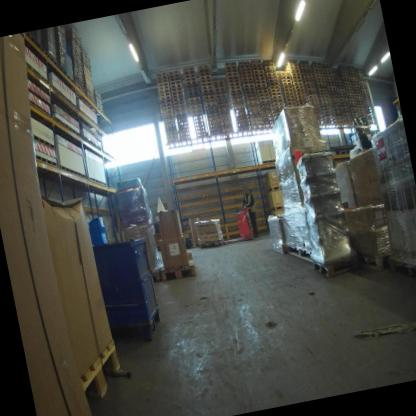pallet: (70, 335, 128, 412), (348, 238, 396, 280), (311, 250, 355, 283), (387, 251, 416, 294), (158, 258, 197, 283), (284, 238, 314, 264), (268, 237, 287, 258), (197, 237, 225, 251), (148, 264, 167, 284), (47, 52, 60, 67), (24, 30, 37, 44), (36, 39, 47, 55), (283, 59, 298, 68), (284, 64, 300, 72), (237, 65, 252, 73), (278, 80, 293, 88), (284, 61, 299, 69), (198, 73, 212, 81), (271, 104, 285, 112), (281, 89, 295, 97), (246, 109, 261, 116), (242, 89, 257, 96), (238, 69, 253, 76), (335, 149, 350, 156), (334, 146, 349, 153), (196, 62, 209, 70), (233, 107, 246, 115), (260, 111, 273, 119), (257, 94, 270, 102), (256, 87, 269, 95), (251, 64, 264, 72), (268, 90, 281, 98), (282, 93, 295, 101), (58, 64, 67, 75), (209, 128, 223, 135), (204, 104, 218, 111), (199, 80, 213, 87), (230, 97, 244, 104), (229, 94, 243, 101), (236, 125, 250, 132), (235, 121, 249, 128), (233, 111, 247, 118), (231, 100, 245, 107), (249, 123, 263, 130), (248, 116, 262, 123), (247, 113, 261, 120), (246, 106, 260, 113), (245, 102, 259, 109), (245, 99, 259, 106), (242, 85, 256, 92), (241, 82, 255, 89), (240, 75, 254, 82), (239, 72, 253, 79), (228, 87, 242, 94), (228, 84, 242, 91), (227, 80, 241, 87), (226, 77, 240, 84), (226, 74, 240, 81), (224, 64, 238, 71), (283, 99, 297, 106), (282, 96, 296, 103), (280, 86, 294, 93), (278, 77, 292, 84), (277, 74, 291, 81), (276, 70, 290, 77), (254, 77, 266, 85), (308, 99, 320, 107), (312, 68, 324, 76), (67, 73, 75, 85), (166, 137, 179, 144), (162, 115, 175, 122), (159, 101, 172, 108), (159, 97, 172, 104), (175, 113, 188, 120), (174, 109, 187, 116), (172, 99, 185, 106), (172, 95, 185, 102), (191, 109, 204, 116), (188, 95, 201, 102), (202, 93, 215, 100), (202, 90, 215, 97), (201, 87, 214, 94), (199, 77, 212, 84), (232, 104, 245, 111), (225, 67, 238, 74), (224, 60, 237, 67), (262, 119, 275, 126), (261, 115, 274, 122), (259, 105, 272, 112), (258, 98, 271, 105), (255, 84, 268, 91), (253, 74, 266, 81), (271, 101, 284, 108), (269, 94, 282, 101), (268, 87, 281, 94), (262, 58, 273, 66), (164, 122, 176, 129), (155, 70, 167, 77), (173, 106, 187, 112), (172, 103, 186, 109), (193, 120, 205, 127), (182, 65, 194, 72), (203, 100, 217, 106), (215, 92, 227, 99), (214, 85, 226, 92), (249, 120, 263, 126), (244, 96, 258, 102), (243, 93, 257, 99), (240, 79, 254, 85), (237, 63, 251, 69), (229, 91, 243, 97), (225, 71, 239, 77), (260, 108, 272, 115), (259, 101, 271, 108), (257, 91, 269, 98), (255, 81, 267, 88), (253, 71, 265, 78), (252, 68, 264, 75), (251, 61, 263, 68), (250, 58, 262, 65), (267, 80, 279, 87), (265, 74, 277, 81), (263, 64, 275, 71), (279, 84, 293, 90), (293, 86, 305, 93), (293, 83, 305, 90), (291, 76, 303, 83), (307, 96, 319, 103), (306, 92, 318, 99), (306, 89, 318, 96), (305, 86, 317, 93), (315, 81, 327, 88), (302, 74, 314, 81), (301, 71, 313, 78), (311, 66, 323, 73), (165, 130, 178, 136), (161, 108, 174, 114), (160, 105, 173, 111), (158, 90, 171, 96), (157, 84, 170, 90), (171, 92, 184, 98), (170, 89, 183, 95), (170, 85, 183, 91), (169, 82, 182, 88), (168, 75, 181, 81), (190, 107, 203, 113), (189, 103, 202, 109), (209, 125, 222, 131), (208, 122, 221, 128), (207, 118, 220, 124), (207, 115, 220, 121), (206, 111, 219, 117), (205, 108, 218, 114), (203, 97, 216, 103), (198, 70, 211, 76), (197, 67, 210, 73), (216, 99, 229, 105), (235, 118, 248, 124), (234, 115, 247, 121), (237, 59, 250, 65), (270, 98, 283, 104), (304, 79, 315, 86), (319, 95, 330, 102), (317, 87, 328, 94), (314, 75, 325, 82), (299, 62, 310, 69), (298, 58, 309, 65), (311, 63, 322, 70), (166, 133, 178, 139), (165, 126, 177, 132), (163, 119, 175, 125), (162, 112, 174, 118), (159, 94, 171, 100), (158, 87, 170, 93), (157, 80, 169, 86), (156, 77, 168, 83), (156, 74, 168, 80), (179, 134, 191, 140), (176, 116, 188, 122), (168, 72, 180, 78), (195, 131, 207, 137), (189, 99, 201, 105), (187, 89, 199, 95), (186, 82, 198, 88), (185, 79, 197, 85), (184, 72, 196, 78), (183, 69, 195, 75), (222, 127, 234, 133), (221, 124, 233, 130), (220, 120, 232, 126), (219, 113, 231, 119), (218, 109, 230, 115), (218, 106, 230, 112), (217, 102, 229, 108), (201, 84, 213, 90), (216, 96, 228, 102), (214, 89, 226, 95), (213, 82, 225, 88), (212, 79, 224, 85), (268, 84, 280, 90), (266, 77, 278, 83), (264, 68, 276, 74), (296, 99, 308, 105), (295, 96, 307, 102), (295, 93, 307, 99), (294, 90, 306, 96), (292, 80, 304, 86), (290, 74, 302, 80), (289, 68, 301, 74), (304, 83, 316, 89), (319, 99, 331, 105), (318, 93, 330, 99), (317, 90, 329, 96), (316, 84, 328, 90), (312, 73, 324, 79), (300, 68, 312, 74), (299, 65, 311, 71), (327, 84, 337, 91), (325, 75, 335, 82), (178, 127, 189, 133), (178, 123, 189, 129), (194, 124, 205, 130), (193, 117, 204, 123), (272, 108, 283, 114), (265, 71, 276, 77), (263, 62, 274, 68), (290, 71, 301, 77), (303, 77, 314, 83), (315, 78, 326, 84), (187, 93, 200, 98), (186, 86, 199, 91), (351, 111, 360, 118), (169, 79, 181, 84), (167, 69, 179, 74), (184, 76, 196, 81), (220, 117, 232, 122), (329, 94, 339, 100), (344, 82, 352, 89), (179, 131, 190, 136), (177, 120, 188, 125), (195, 128, 206, 133), (192, 114, 203, 119), (324, 73, 333, 79), (349, 105, 358, 111), (349, 103, 358, 109), (348, 100, 357, 106), (347, 94, 356, 100), (346, 91, 355, 97), (351, 80, 360, 86), (343, 80, 352, 86), (342, 77, 351, 83), (341, 72, 350, 78), (339, 96, 347, 102), (338, 90, 346, 96), (337, 87, 345, 93), (348, 97, 356, 103), (345, 86, 353, 92), (355, 94, 363, 100), (354, 92, 362, 98), (354, 89, 362, 95), (353, 86, 361, 92), (341, 69, 349, 75), (351, 78, 359, 84), (350, 75, 358, 81), (330, 97, 339, 102), (329, 91, 338, 96), (328, 88, 337, 93), (327, 82, 336, 87), (326, 79, 335, 84), (323, 70, 332, 75), (323, 67, 332, 72), (338, 94, 347, 99), (336, 85, 345, 90), (335, 82, 344, 87), (350, 109, 359, 114), (273, 112, 280, 118), (349, 70, 356, 76), (346, 89, 354, 94), (352, 84, 360, 89), (335, 79, 343, 84), (342, 75, 350, 80), (349, 73, 357, 78), (356, 98, 364, 103), (273, 115, 279, 121), (363, 96, 370, 101), (362, 93, 369, 98), (361, 88, 368, 93), (360, 85, 367, 90), (359, 80, 366, 85), (357, 101, 364, 106), (361, 91, 368, 95), (360, 83, 366, 87)
pallet_truck: (218, 202, 256, 245)
